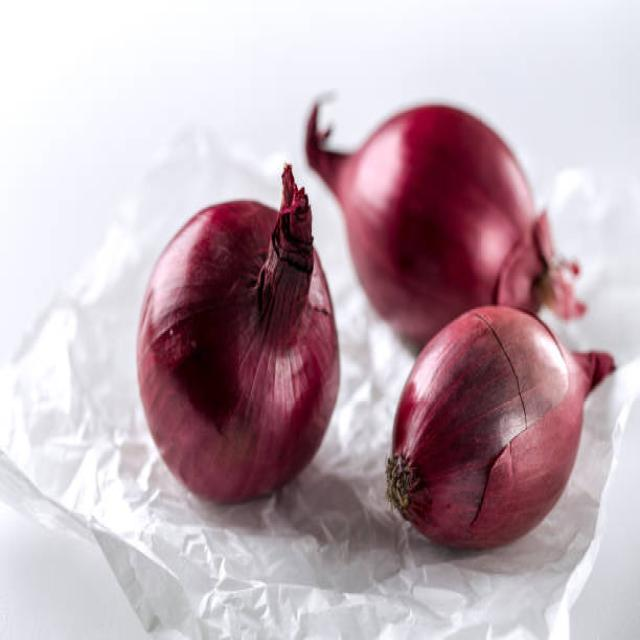onion: (125, 197, 342, 515), (383, 322, 596, 564)
